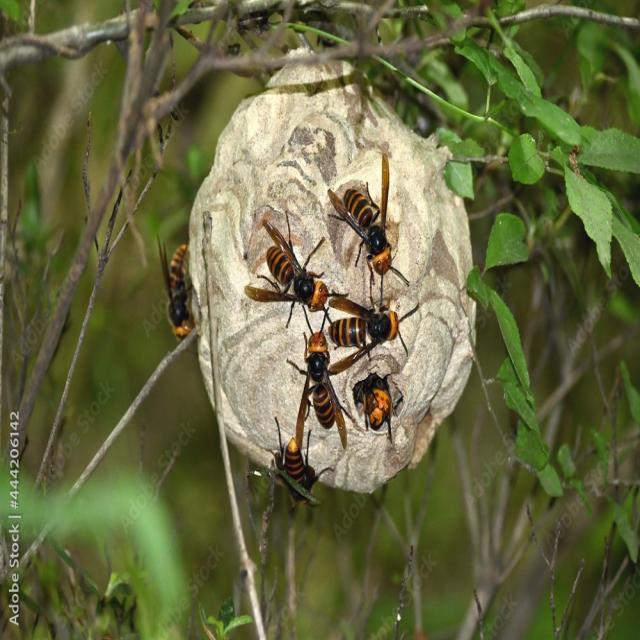Wasp: (250, 212, 337, 328), (326, 158, 403, 287), (328, 292, 424, 366), (140, 227, 201, 342), (290, 322, 346, 438), (264, 424, 310, 506), (364, 385, 406, 439)
